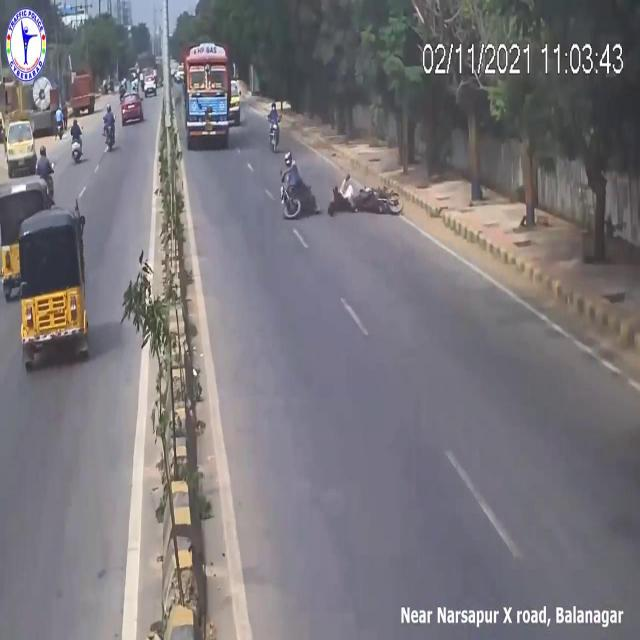accident: (273, 134, 405, 239)
non_accident: (0, 143, 93, 389), (182, 35, 246, 153), (116, 43, 164, 129)
